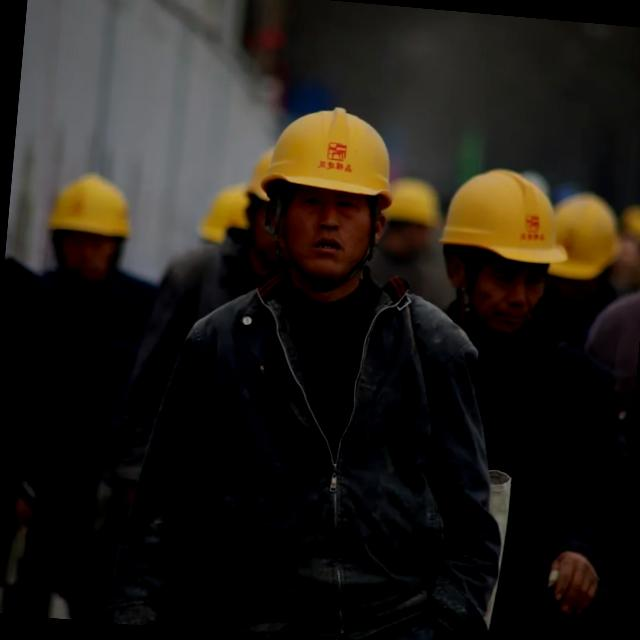helmet: (258, 95, 412, 209), (439, 160, 572, 274), (40, 169, 144, 247)
no-goggles: (268, 186, 384, 234), (466, 256, 552, 300)
no-vest: (187, 264, 456, 604), (443, 314, 622, 559)
